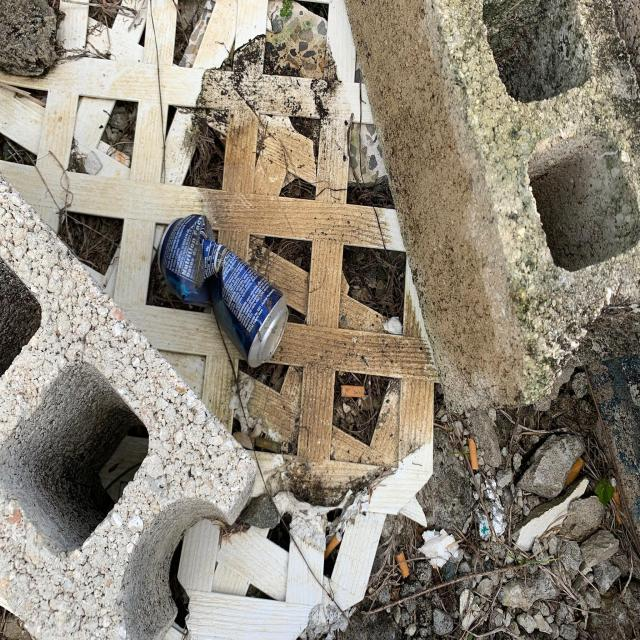litter: (159, 214, 287, 367)
